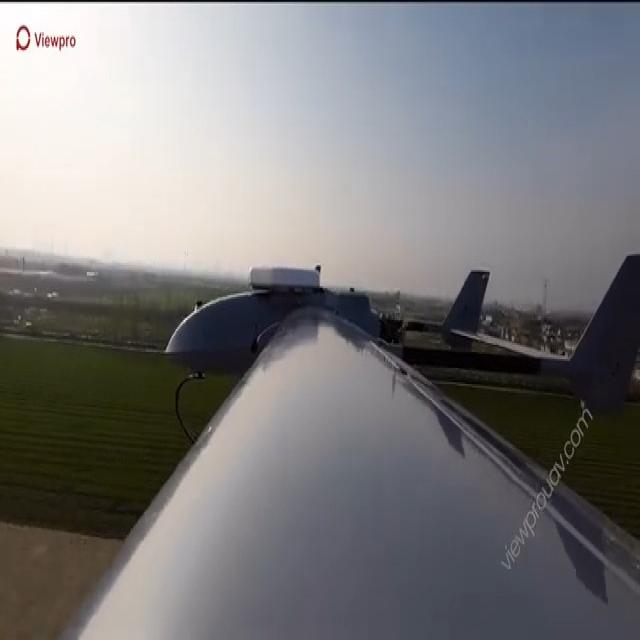drones: (143, 252, 640, 466)
